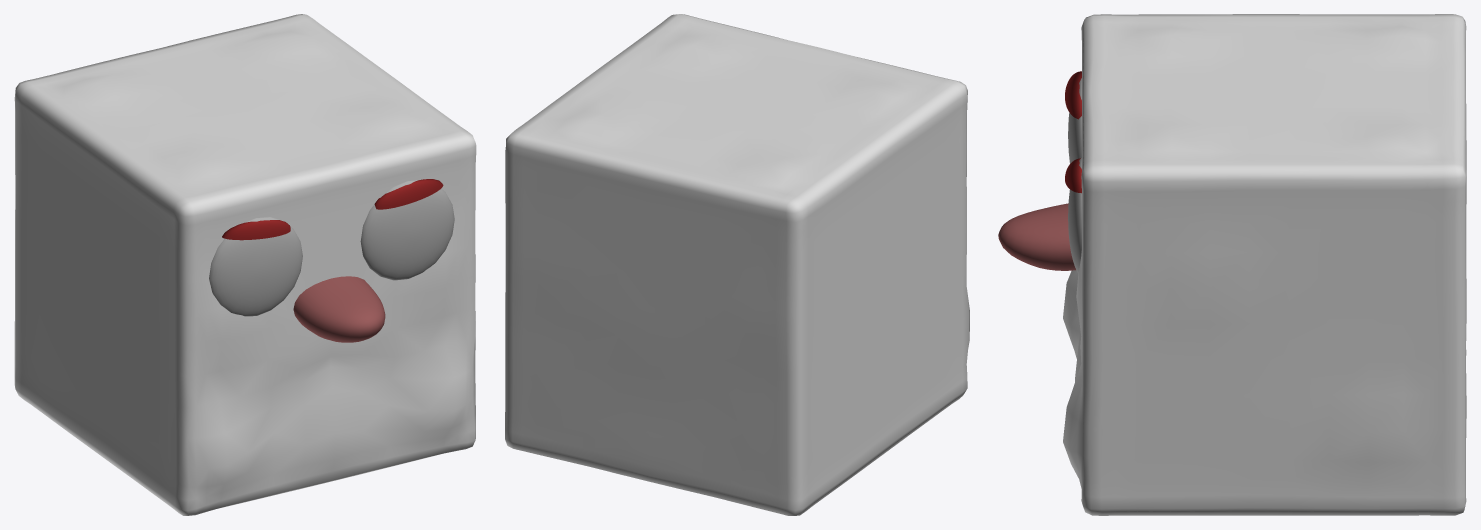
File: faceSad.fbx
3 renders of one model, left to right at view 1: azimuth 30°, elevation 25°; view 2: azimuth 150°, elevation 25°; view 3: azimuth 270°, elevation 25°, orthographic. The views are drawn at different scales.
Parts seen in each view (by area): view 1: faceSad; view 2: faceSad; view 3: faceSad.
Boxes of the visible parts, left/top/right/bottom form: faceSad: left=14, top=14, right=476, bottom=515; faceSad: left=505, top=14, right=969, bottom=515; faceSad: left=998, top=14, right=1466, bottom=515.
Size of the model in its own units: 101 by 103 by 123.
